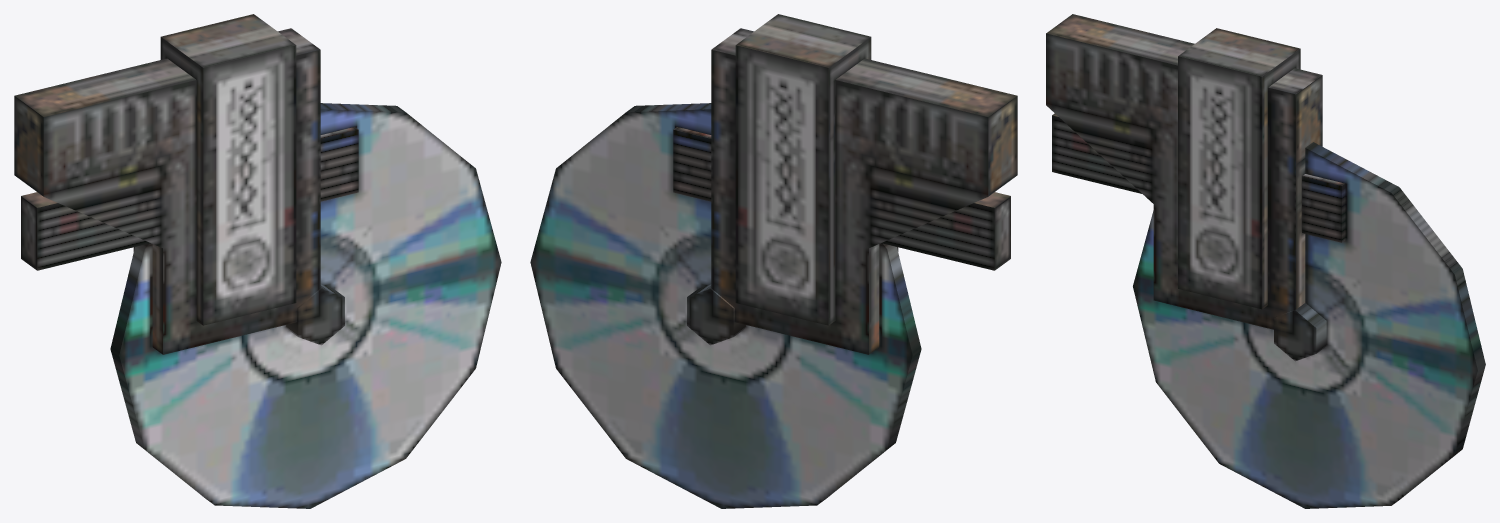
Rendered from eqp_comp_dna_data_disc.fbx.
3 views of the same model, side by side, from view 1: azimuth 30°, elevation 25°; view 2: azimuth 150°, elevation 25°; view 3: azimuth 330°, elevation 25° (orthographic). The views are drawn at different scales.
Visible parts, largest first — view 1: mesh_node; view 2: mesh_node; view 3: mesh_node.
Part boxes in pixels (bbox=[...]): mesh_node: bbox=[14, 14, 501, 508]; mesh_node: bbox=[530, 14, 1017, 508]; mesh_node: bbox=[1046, 14, 1485, 508].
Bounding box in the file's own units: 0.9182 × 0.9067 × 0.1446.
